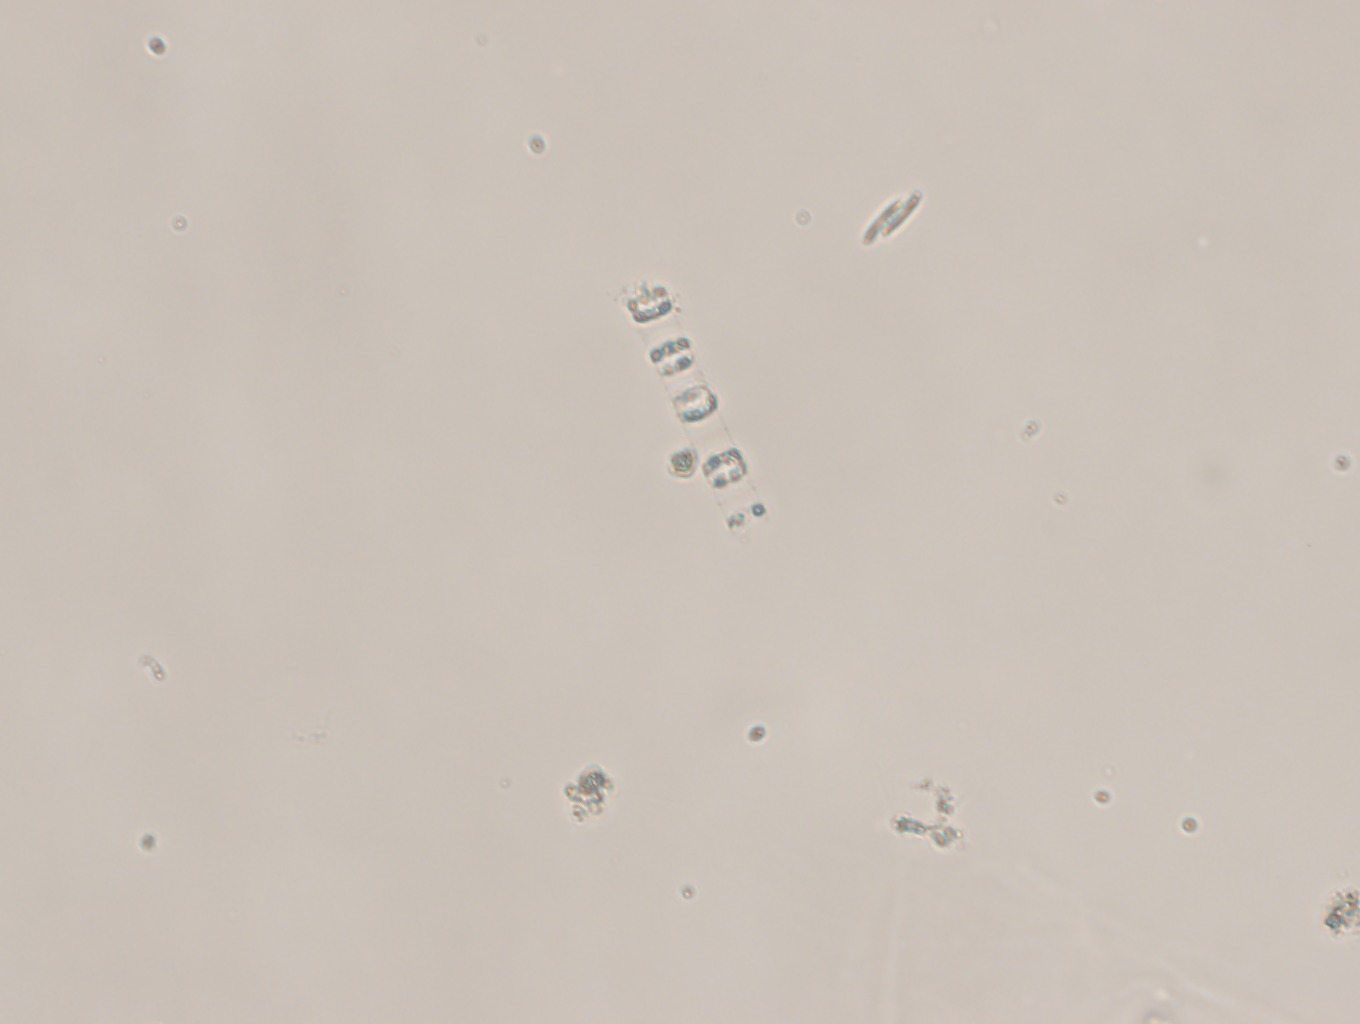skeletonema: (622, 280, 772, 536)
